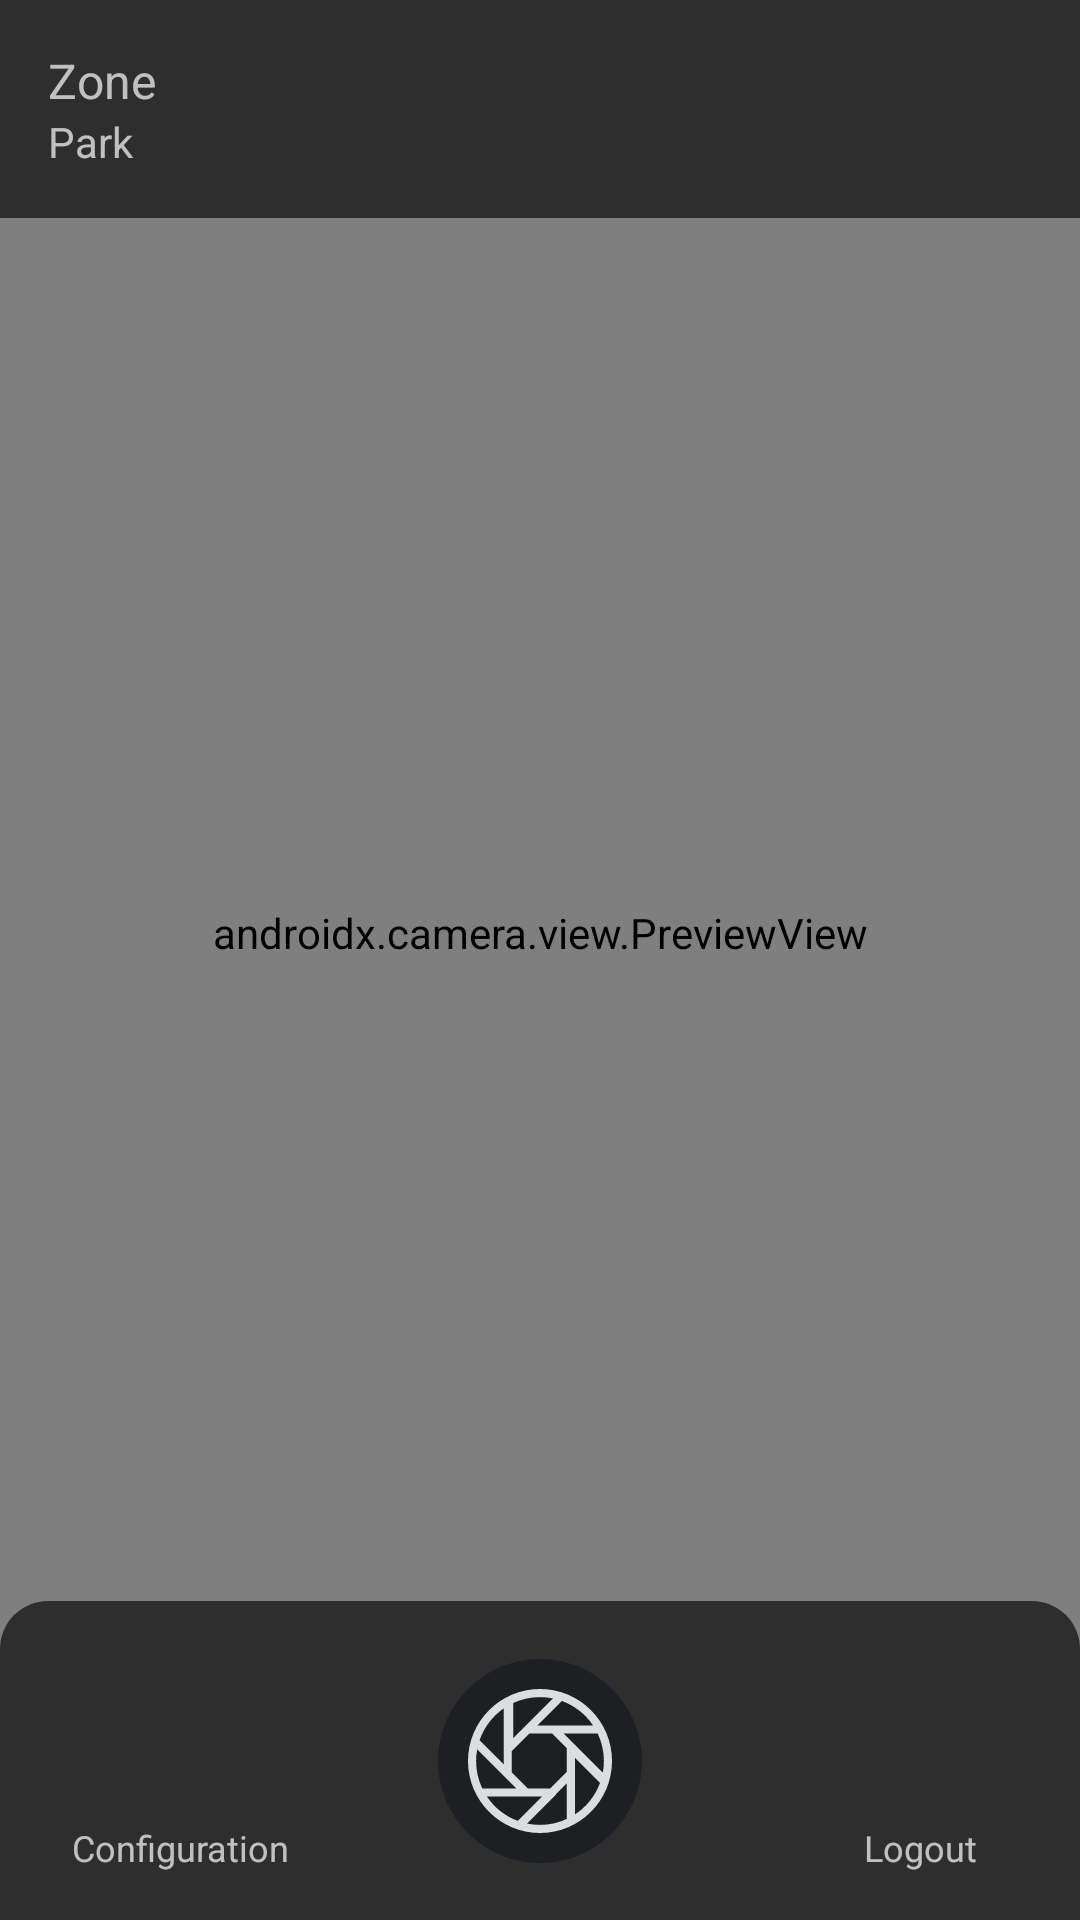

Screen size 1080x1920. Icon name, then its box in pixels as (x1, y1, x2, y2):
camera shutter: (438, 1659, 642, 1863)
